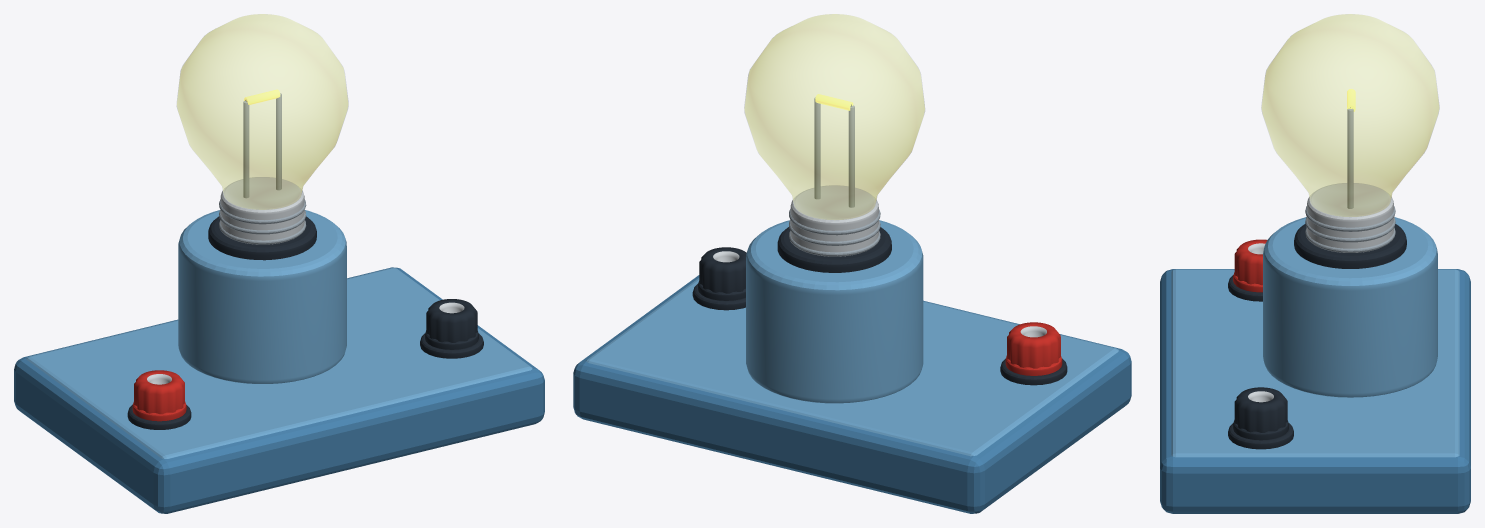
File: lamp-bulb.glb
The picture shows the model from 3 angles, left to right: view 1: azimuth 30°, elevation 25°; view 2: azimuth 150°, elevation 25°; view 3: azimuth 270°, elevation 25°; orthographic projection. The views are drawn at different scales.
Parts seen in each view (by area): view 1: Top shoulder, Blue lamp-holder base, Clear glass bulb envelope, Lit glass surface, Molded E10 holder, Bulb screw collar, Insulator top, n binding socket, p binding socket, n socket washer, p socket washer, Filament lead; view 2: Blue lamp-holder base, Top shoulder, Clear glass bulb envelope, Lit glass surface, Molded E10 holder, Bulb screw collar, Insulator top, p binding socket, n binding socket, p socket washer, Filament lead, Filament lead.001; view 3: Top shoulder, Clear glass bulb envelope, Lit glass surface, Molded E10 holder, Blue lamp-holder base, Bulb screw collar, Insulator top, n binding socket, p binding socket, n socket washer, Filament lead.001, n socket foot (+4 smaller).
Boxes of the visible parts, <box> form: Top shoulder: <box>26,268,532,458</box>; Blue lamp-holder base: <box>14,267,544,513</box>; Clear glass bulb envelope: <box>176,14,348,209</box>; Lit glass surface: <box>177,14,347,209</box>; Molded E10 holder: <box>178,210,346,383</box>; Bulb screw collar: <box>220,177,304,244</box>; Insulator top: <box>208,216,316,260</box>; n binding socket: <box>426,299,477,342</box>; p binding socket: <box>134,370,184,414</box>; n socket washer: <box>420,333,483,358</box>; p socket washer: <box>127,404,191,429</box>; Filament lead: <box>243,101,249,198</box>; Blue lamp-holder base: <box>573,275,1131,513</box>; Top shoulder: <box>586,278,1118,456</box>; Clear glass bulb envelope: <box>744,14,924,219</box>; Lit glass surface: <box>744,14,924,219</box>; Molded E10 holder: <box>746,220,923,403</box>; Bulb screw collar: <box>790,185,878,256</box>; Insulator top: <box>777,227,891,272</box>; p binding socket: <box>1007,322,1060,368</box>; n binding socket: <box>699,247,746,293</box>; p socket washer: <box>1000,358,1067,385</box>; Filament lead: <box>848,105,854,207</box>; Filament lead.001: <box>814,97,820,199</box>; Top shoulder: <box>1171,269,1459,457</box>; Clear glass bulb envelope: <box>1261,14,1439,216</box>; Lit glass surface: <box>1262,14,1438,216</box>; Molded E10 holder: <box>1263,217,1437,397</box>; Blue lamp-holder base: <box>1160,269,1470,513</box>; Bulb screw collar: <box>1307,183,1393,252</box>; Insulator top: <box>1294,223,1406,268</box>; n binding socket: <box>1234,387,1287,432</box>; p binding socket: <box>1234,239,1267,285</box>; n socket washer: <box>1228,423,1293,449</box>; Filament lead.001: <box>1347,109,1353,208</box>; n socket foot: <box>1233,420,1288,440</box>.
Bounding box in the file's own units: 0.12 × 0.114 × 0.08.
